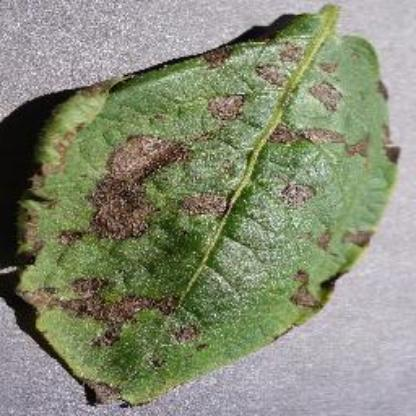Early-Blight: (15, 4, 398, 408)
